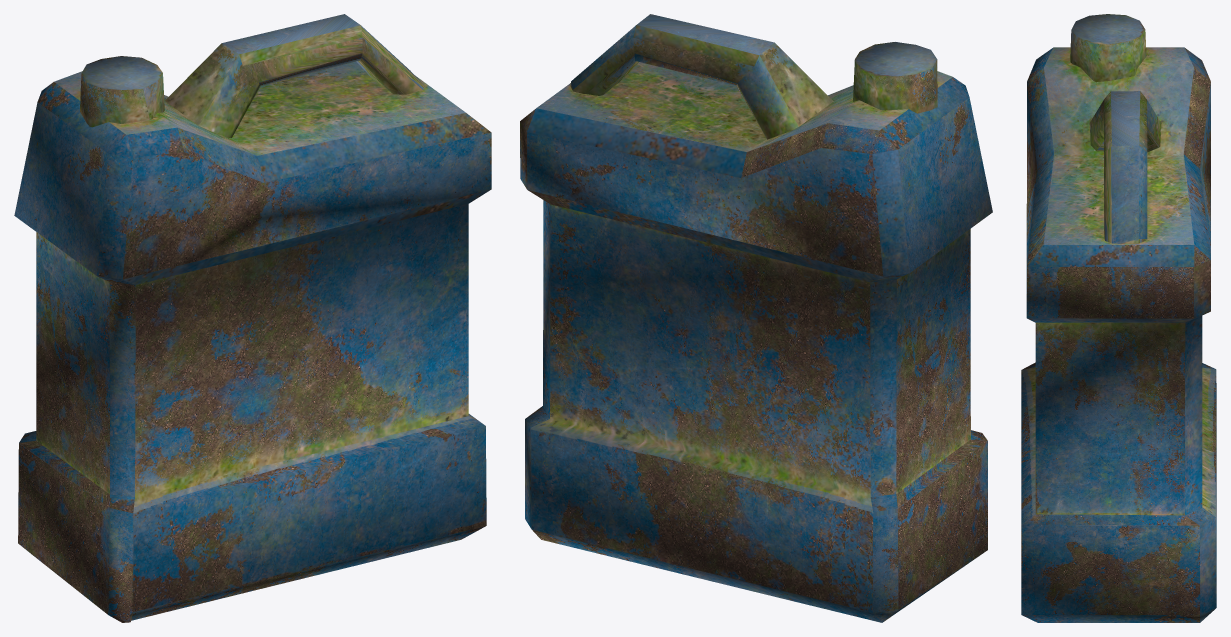
Rendered from Gas_Can_1.fbx.
3 renders of one model, left to right at view 1: azimuth 30°, elevation 25°; view 2: azimuth 150°, elevation 25°; view 3: azimuth 270°, elevation 25°, orthographic. The views are drawn at different scales.
Parts seen in each view (by area): view 1: Gas_Can_LOD0; view 2: Gas_Can_LOD0; view 3: Gas_Can_LOD0.
Boxes of the visible parts, left/top/right/bottom form: Gas_Can_LOD0: left=14, top=14, right=491, bottom=622; Gas_Can_LOD0: left=520, top=14, right=992, bottom=622; Gas_Can_LOD0: left=1021, top=14, right=1216, bottom=622.
Size of what is drawn, in the model's own units: 78.61 by 99.85 by 38.31.
